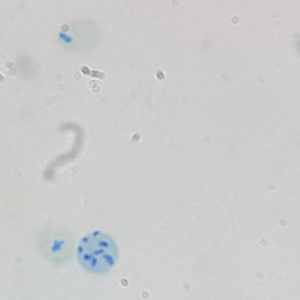aggregate reticulocyte: (75, 229, 120, 273)
erythrocyte: (56, 16, 106, 54), (36, 226, 81, 266)
